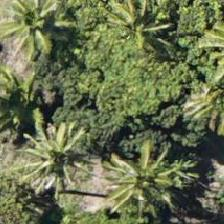coconut_tree: (2, 115, 92, 205), (96, 142, 186, 223), (94, 0, 184, 61), (0, 0, 79, 65)
